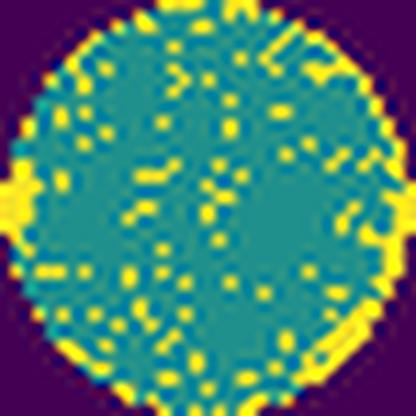Edge-Loc: (301, 29, 415, 302), (293, 298, 385, 396), (0, 165, 50, 252), (221, 0, 261, 26)
